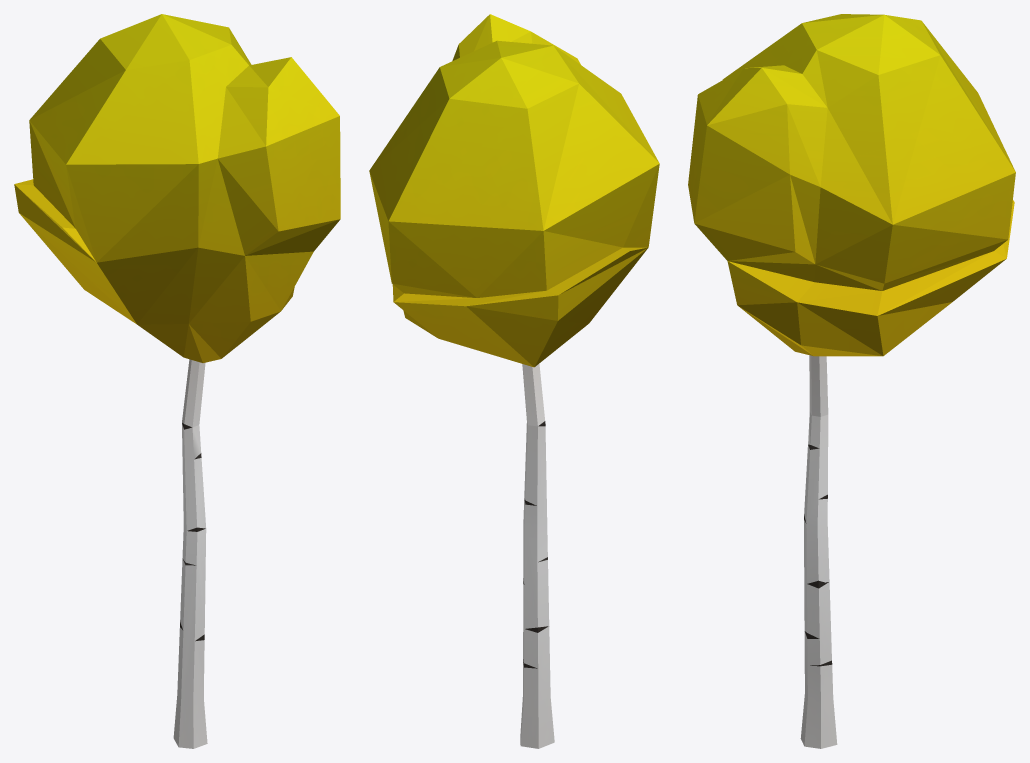
File: birsh01.FBX
3 renders of one model, left to right at view 1: azimuth 30°, elevation 25°; view 2: azimuth 150°, elevation 25°; view 3: azimuth 270°, elevation 25°, orthographic. The views are drawn at different scales.
Parts seen in each view (by area): view 1: birsh01; view 2: birsh01; view 3: birsh01.
Part boxes in pixels (left/top/right/bottom): birsh01: left=14, top=14, right=340, bottom=748; birsh01: left=369, top=14, right=659, bottom=748; birsh01: left=688, top=14, right=1015, bottom=748.
Size of the model in its own units: 18.8 by 49.67 by 20.27.
